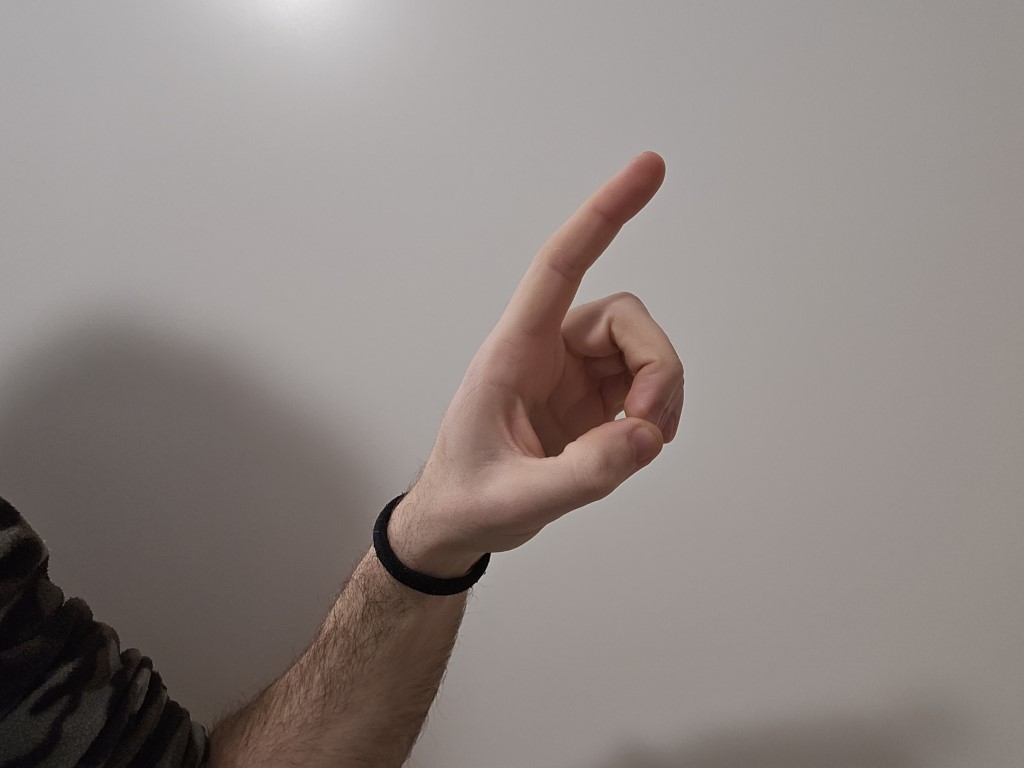d: (407, 130, 714, 551)
